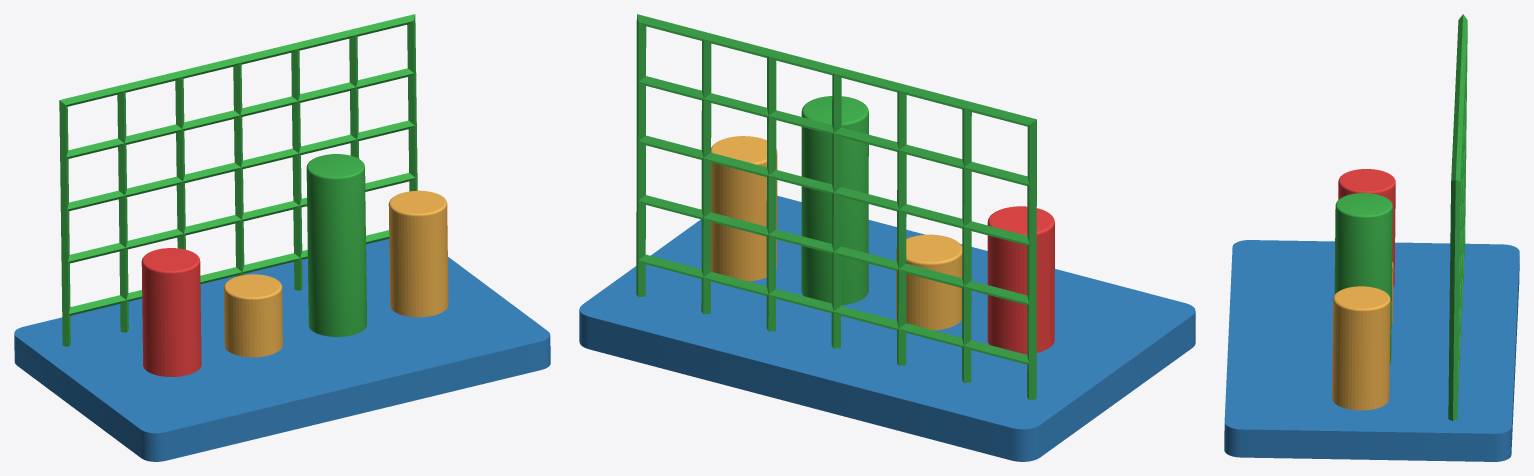
The model's file is graph4.glb.
3 views of the same model, side by side, from view 1: azimuth 30°, elevation 25°; view 2: azimuth 150°, elevation 25°; view 3: azimuth 270°, elevation 25° (orthographic). The views are drawn at different scales.
Visible parts, largest first — view 1: Cube.002, Plane.162, Cylinder.008, Cylinder.006, Cylinder.009, Cylinder.007; view 2: Cube.002, Plane.162, Cylinder.008, Cylinder.006, Cylinder.009, Cylinder.007; view 3: Cube.002, Cylinder.009, Cylinder.008, Plane.162, Cylinder.006.
Part boxes in pixels (x1,y1,x2,y2): Cube.002: [14, 239, 550, 461]; Plane.162: [59, 14, 417, 346]; Cylinder.008: [306, 154, 366, 336]; Cylinder.006: [141, 248, 201, 376]; Cylinder.009: [388, 190, 448, 317]; Cylinder.007: [223, 274, 282, 357]; Cube.002: [579, 195, 1195, 461]; Plane.162: [636, 14, 1036, 399]; Cylinder.008: [801, 96, 868, 305]; Cylinder.006: [987, 206, 1054, 354]; Cylinder.009: [711, 136, 777, 281]; Cylinder.007: [896, 234, 962, 330]; Cube.002: [1224, 240, 1519, 461]; Cylinder.009: [1332, 286, 1390, 410]; Cylinder.008: [1334, 193, 1392, 363]; Plane.162: [1448, 14, 1467, 420]; Cylinder.006: [1338, 169, 1395, 286].
Bounding box in the file's own units: 4.88 × 3.18 × 3.13.
